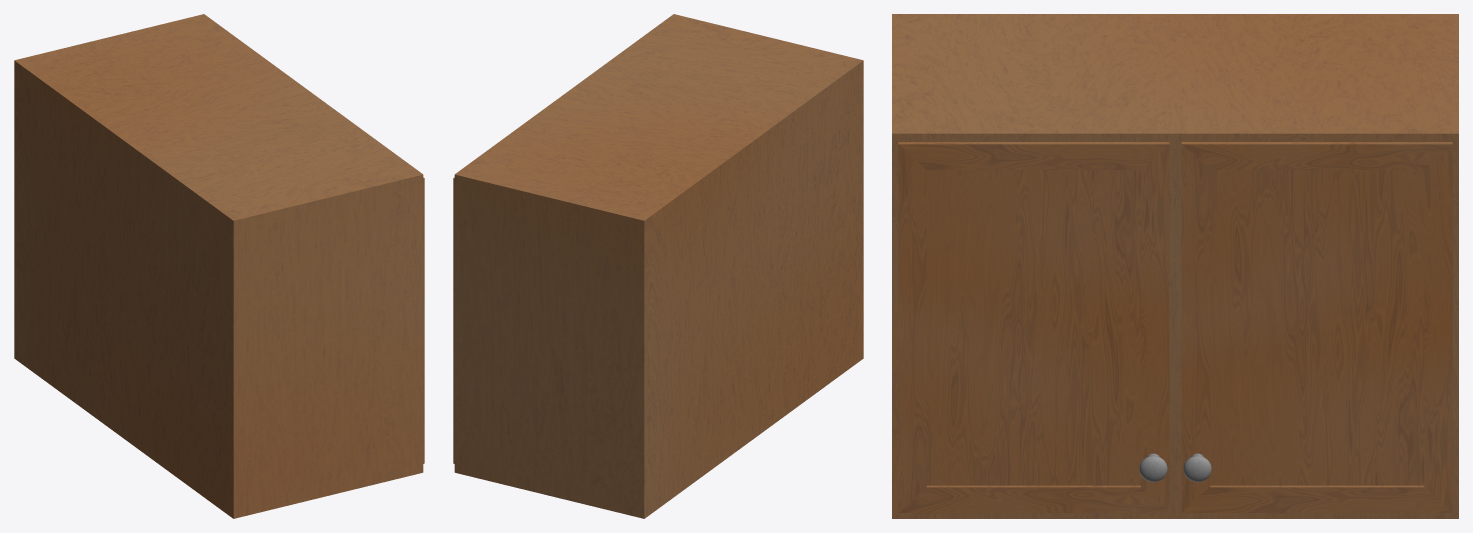
Rendered from TopCabinet_duo-double.glb.
3 views of the same model, side by side, from view 1: azimuth 30°, elevation 25°; view 2: azimuth 150°, elevation 25°; view 3: azimuth 270°, elevation 25° (orthographic). The views are drawn at different scales.
Visible parts, largest first — view 1: mesh; view 2: mesh; view 3: mesh.
Boxes of the visible parts, box(x1,y1,x2,y2) form: mesh: box(14, 14, 424, 518); mesh: box(453, 14, 863, 518); mesh: box(892, 14, 1458, 518).
Size of the model in its own units: 2.24 by 3 by 4.
Materials: 1 (1 with a texture image).
